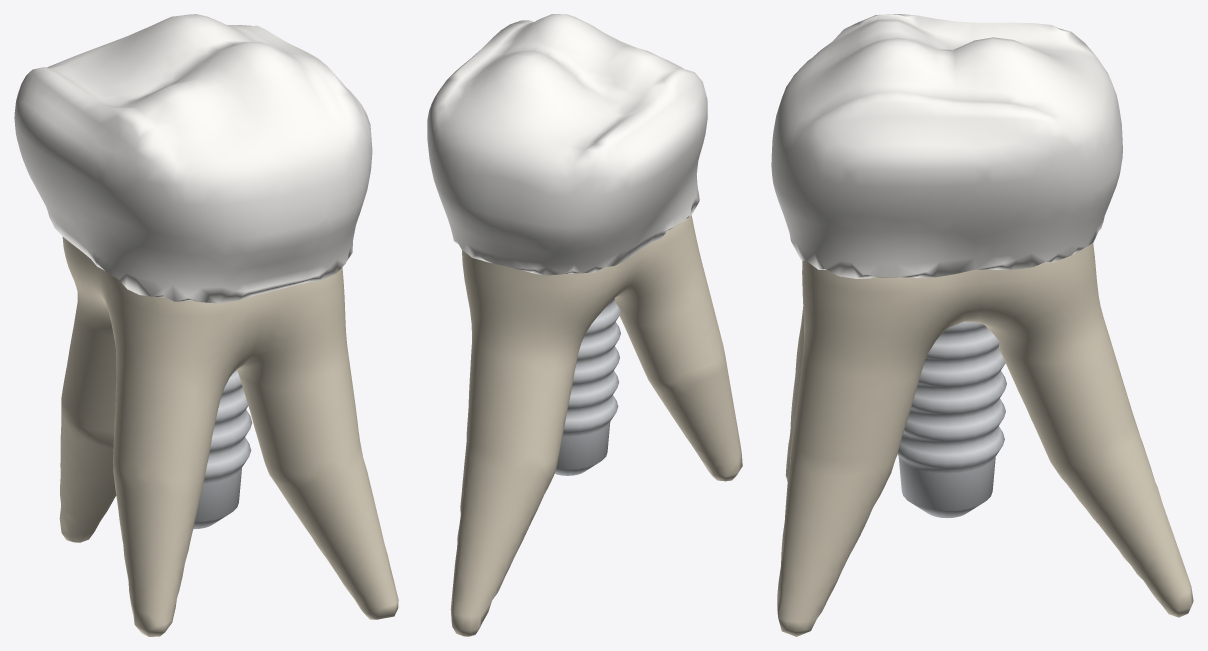
The picture shows the model from 3 angles, left to right: view 1: azimuth 30°, elevation 25°; view 2: azimuth 150°, elevation 25°; view 3: azimuth 270°, elevation 25°; orthographic projection. The views are drawn at different scales.
Visible parts, largest first — view 1: crown, root, implant; view 2: crown, root, implant; view 3: crown, root, implant.
Part boxes in pixels (x1,y1,x2,y2): crown: (14,14,372,303); root: (59,236,398,636); implant: (193,370,252,529); crown: (427,14,707,275); root: (450,215,742,636); implant: (554,298,621,475); crown: (771,14,1122,278); root: (777,243,1193,636); implant: (897,321,1006,518).
Bounding box in the file's own units: 8.07 × 17.06 × 11.05.
